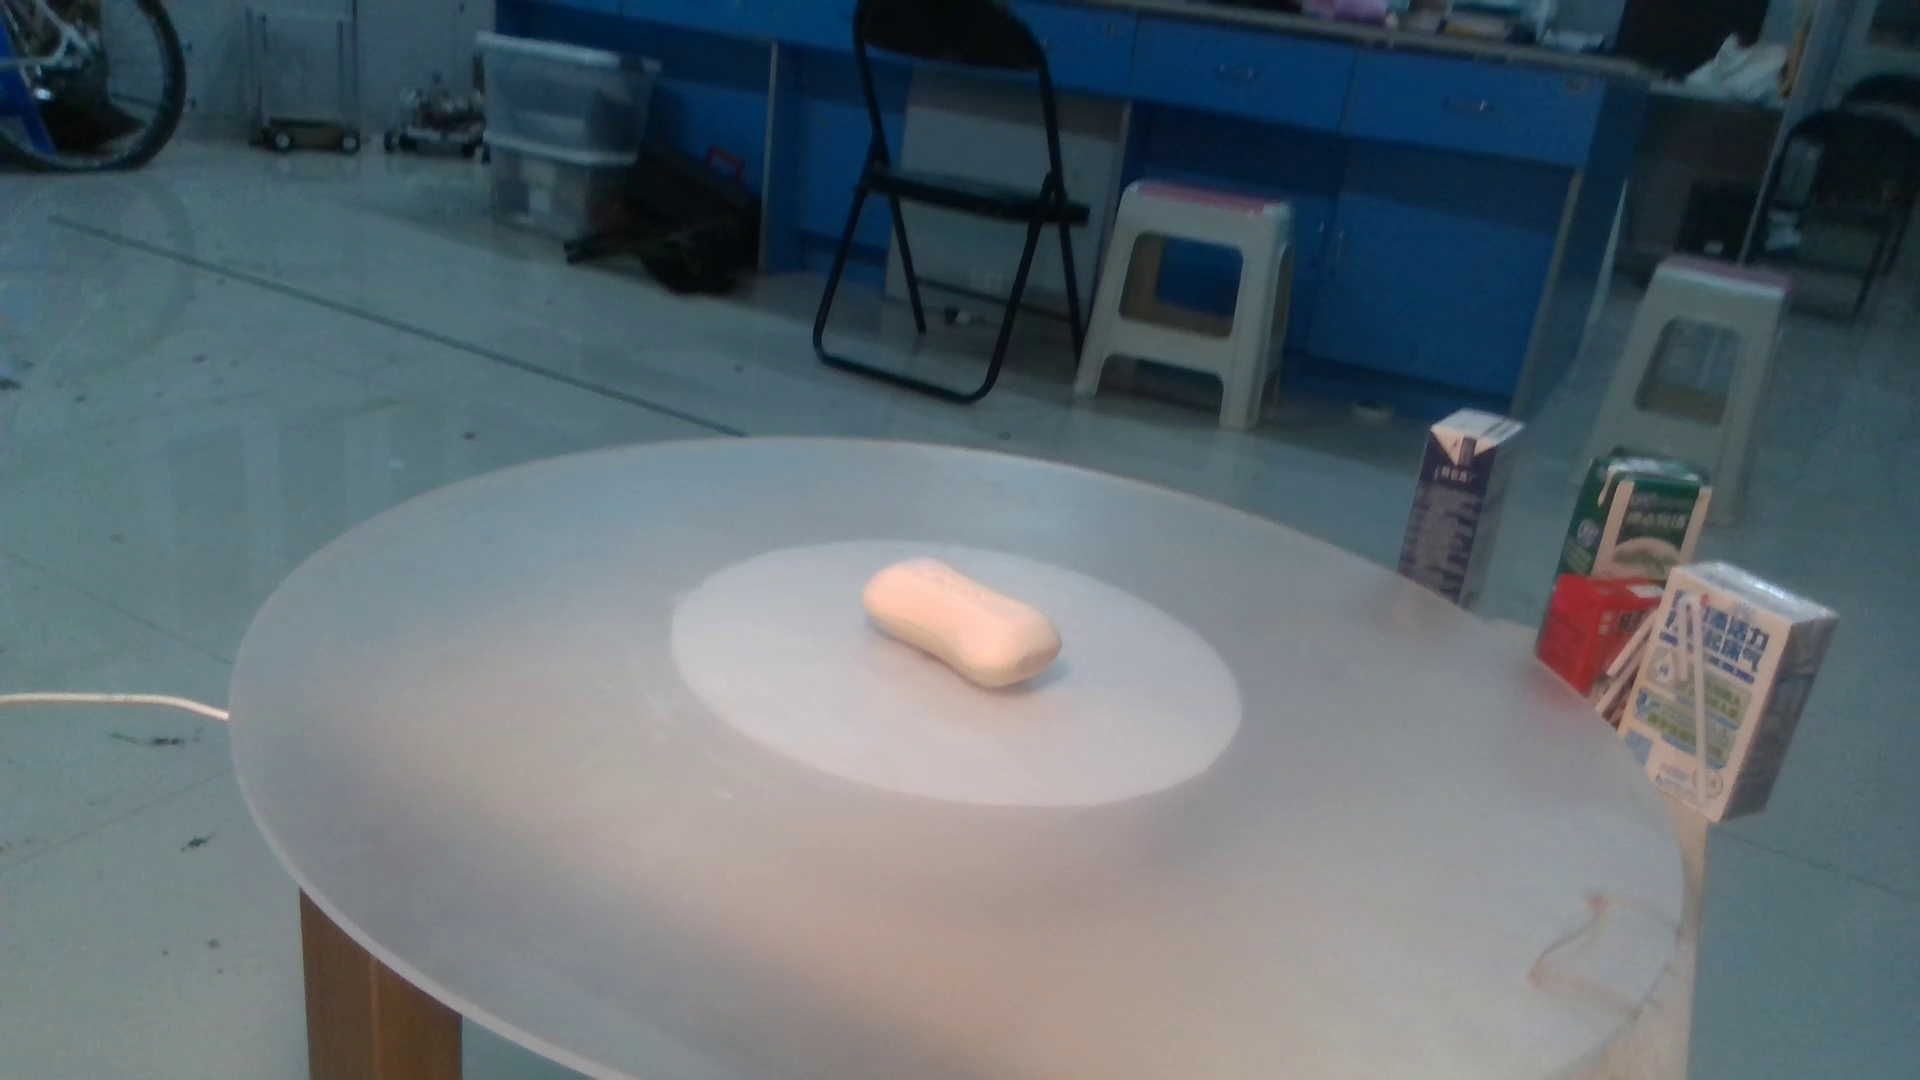CA003_1: (855, 534, 1105, 727)
